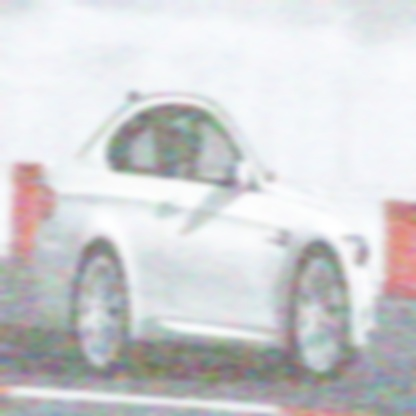Vehicle: (30, 92, 374, 387)
